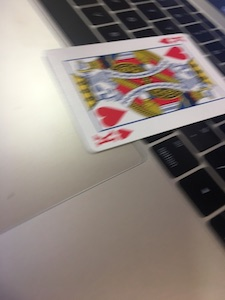KingOfHearts: (42, 28, 225, 153)
